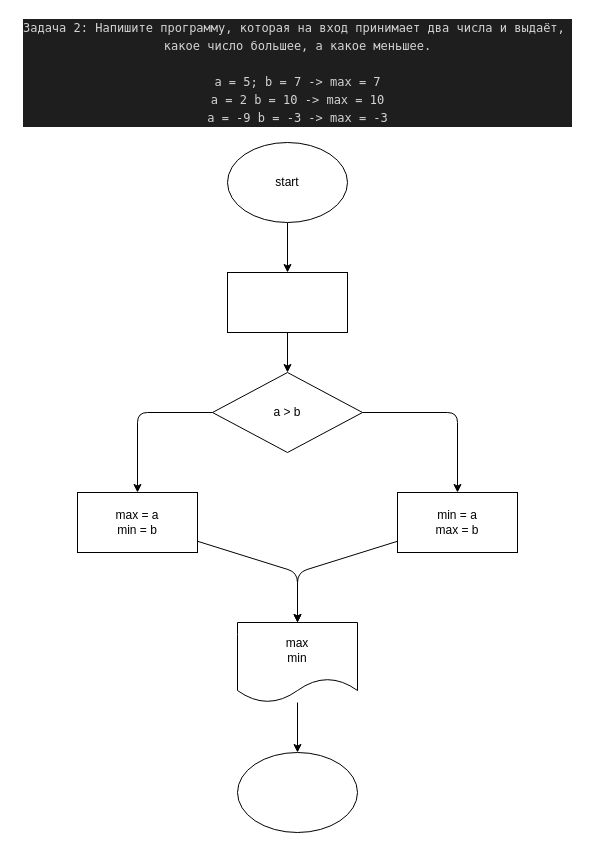
This 594x850 diagram has some shape labels left out. The shapes that lost their labels are listed below. From the top down, each one's centre as x and y in pixels, then its label:
point 287,302: a = 0 b = 0
point 297,792: end
